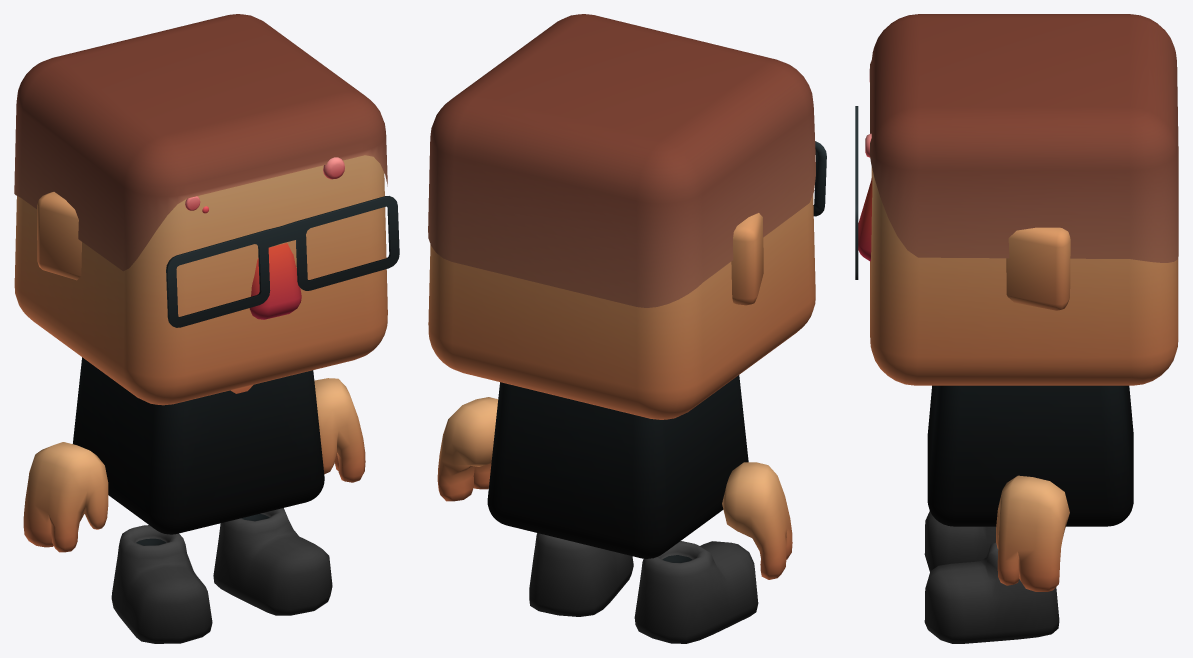
The model's file is docente_redes.glb.
3 views of the same model, side by side, from view 1: azimuth 30°, elevation 25°; view 2: azimuth 150°, elevation 25°; view 3: azimuth 270°, elevation 25° (orthographic). The views are drawn at different scales.
Visible parts, largest first — view 1: Cube.005; view 2: Cube.005; view 3: Cube.005.
Part boxes in pixels (bbox=[...]): Cube.005: bbox=[14, 14, 399, 643]; Cube.005: bbox=[428, 14, 826, 643]; Cube.005: bbox=[855, 14, 1178, 643].
Bounding box in the file's own units: 0.7919 × 1.18 × 0.6503.
Materials: 1 (1 with a texture image).
